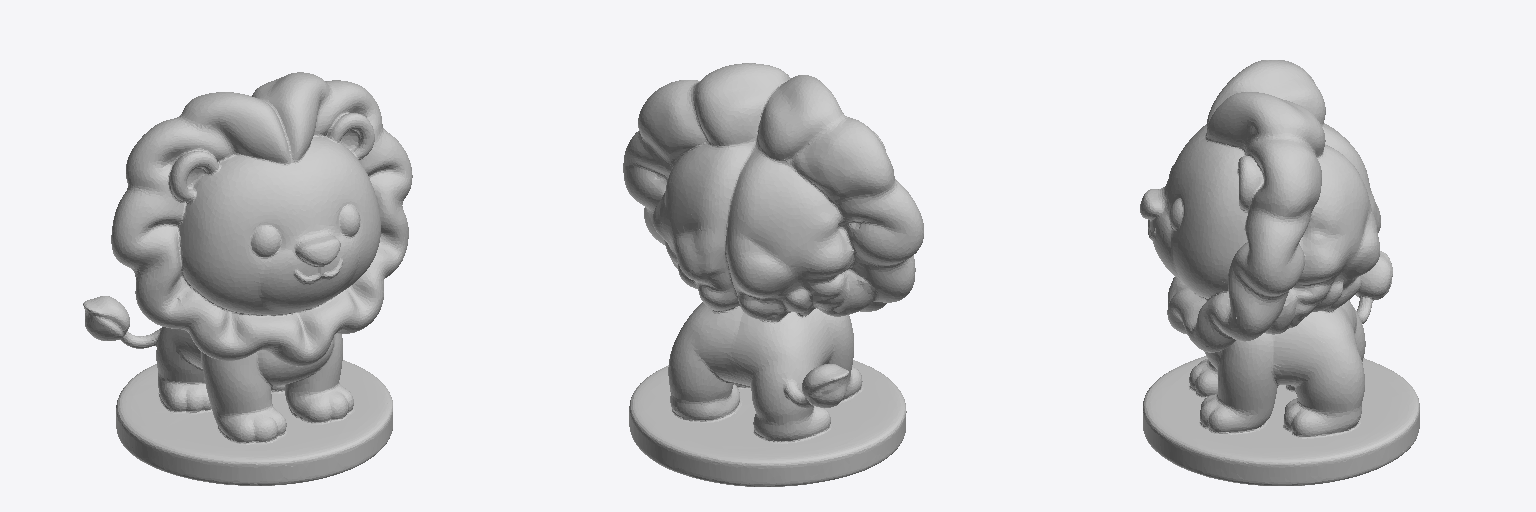
The model's file is cmix143j10018i0nm4i0fvc8g.obj.
3 renders of one model, left to right at view 1: azimuth 30°, elevation 25°; view 2: azimuth 150°, elevation 25°; view 3: azimuth 270°, elevation 25°, orthographic.
Parts seen in each view (by area): view 1: material; view 2: material; view 3: material.
Part boxes in pixels (bbox=[...]): material: bbox=[83, 72, 412, 485]; material: bbox=[623, 63, 923, 486]; material: bbox=[1140, 60, 1419, 485].
Size of the model in its own units: 0.8685 by 0.9826 by 0.7121.